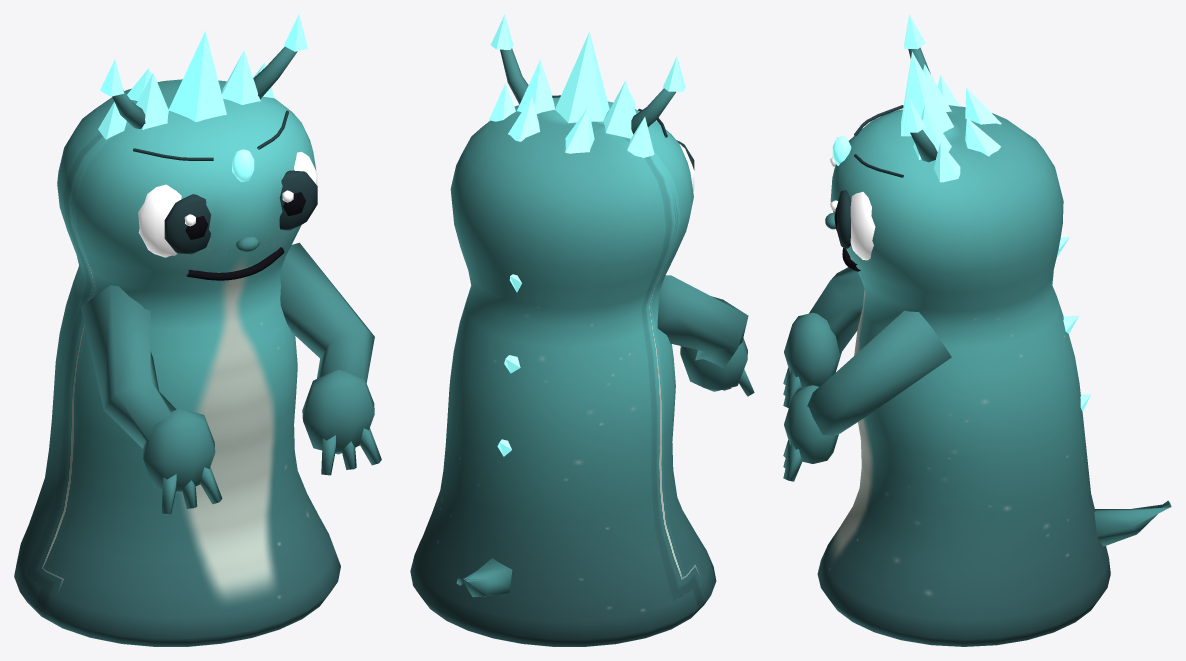
File: ventisca_pixar.glb
3 renders of one model, left to right at view 1: azimuth 30°, elevation 25°; view 2: azimuth 150°, elevation 25°; view 3: azimuth 270°, elevation 25°, orthographic. The views are drawn at different scales.
Parts seen in each view (by area): view 1: ventisca_cuerpo; view 2: ventisca_cuerpo; view 3: ventisca_cuerpo.
Part boxes in pixels (left/top/right/bottom): ventisca_cuerpo: left=14, top=14, right=381, bottom=646; ventisca_cuerpo: left=410, top=14, right=754, bottom=646; ventisca_cuerpo: left=783, top=14, right=1171, bottom=646.
Size of the model in its own units: 0.3035 by 0.58 by 0.3825.
5 materials, 1 textured.
